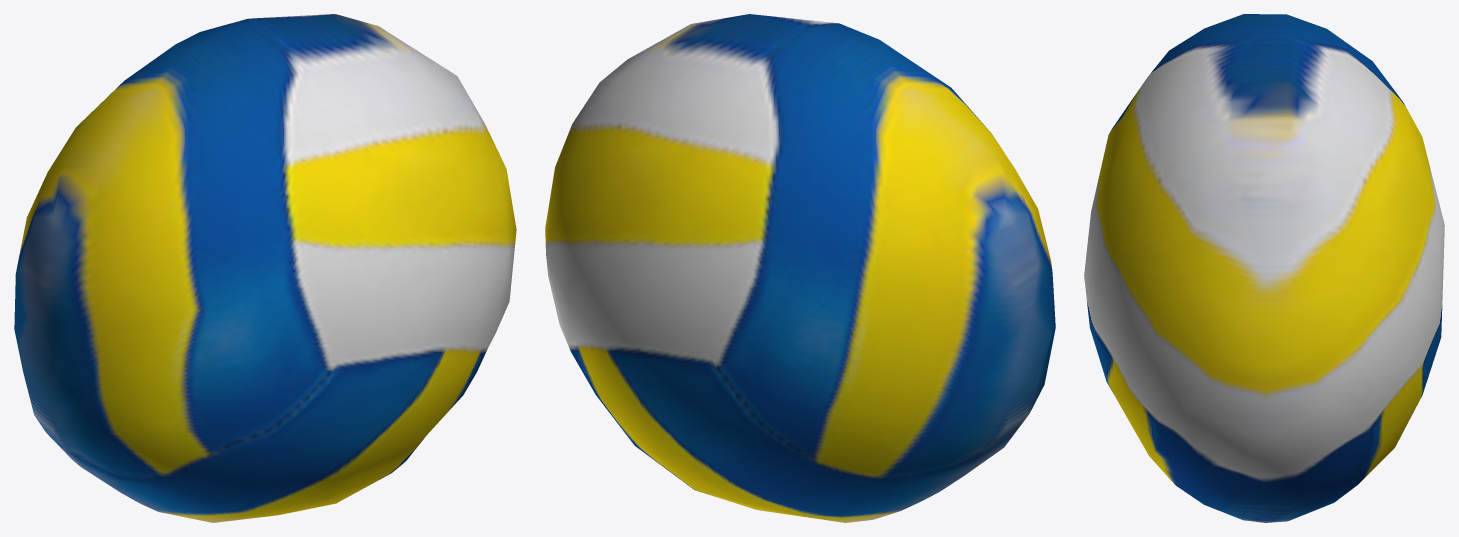
Rendered from mm_volleyball-v3.glb.
The picture shows the model from 3 angles, left to right: view 1: azimuth 30°, elevation 25°; view 2: azimuth 150°, elevation 25°; view 3: azimuth 270°, elevation 25°; orthographic projection. The views are drawn at different scales.
Parts seen in each view (by area): view 1: 1277897e-eb79-49c5-a290-bbb82ac01929; view 2: 1277897e-eb79-49c5-a290-bbb82ac01929; view 3: 1277897e-eb79-49c5-a290-bbb82ac01929.
Part boxes in pixels (bbox=[...]): 1277897e-eb79-49c5-a290-bbb82ac01929: bbox=[14, 14, 516, 522]; 1277897e-eb79-49c5-a290-bbb82ac01929: bbox=[545, 14, 1055, 522]; 1277897e-eb79-49c5-a290-bbb82ac01929: bbox=[1084, 14, 1444, 522].
Bounding box in the file's own units: 5.67 × 5.47 × 3.89.
1 material, 1 textured.
